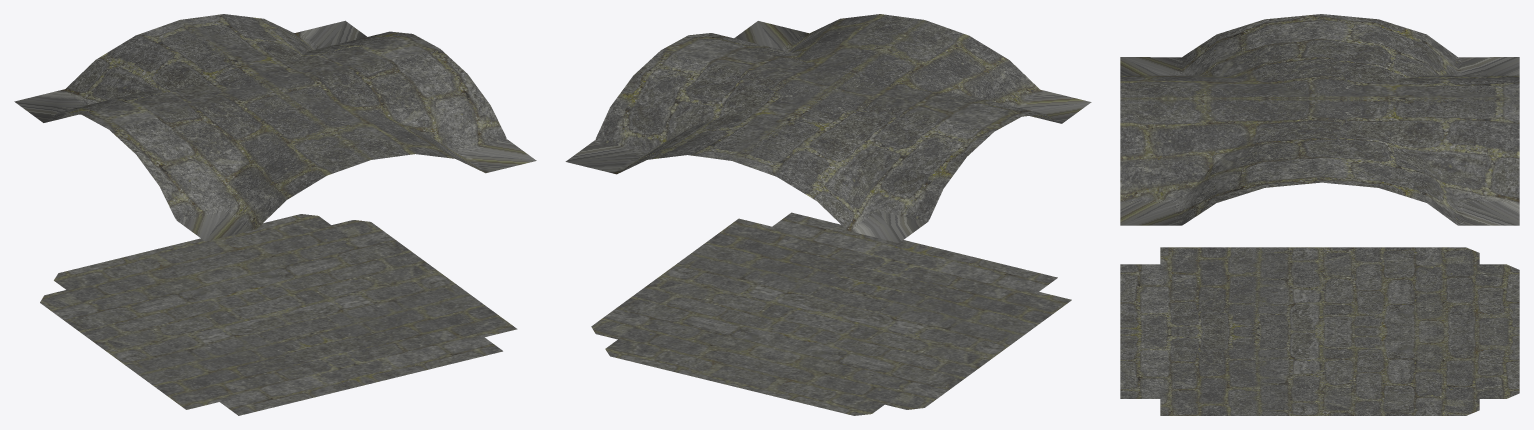
File: short_hallway_nopillars.fbx
3 renders of one model, left to right at view 1: azimuth 30°, elevation 25°; view 2: azimuth 150°, elevation 25°; view 3: azimuth 270°, elevation 25°, orthographic. The views are drawn at different scales.
Parts seen in each view (by area): view 1: Plane.281; view 2: Plane.281; view 3: Plane.281.
Part boxes in pixels (box(x1,y1,x2,y2)): Plane.281: box(14, 14, 536, 415); Plane.281: box(565, 14, 1091, 415); Plane.281: box(1120, 14, 1519, 415).
Size of the model in its own units: 200 by 129 by 200.
